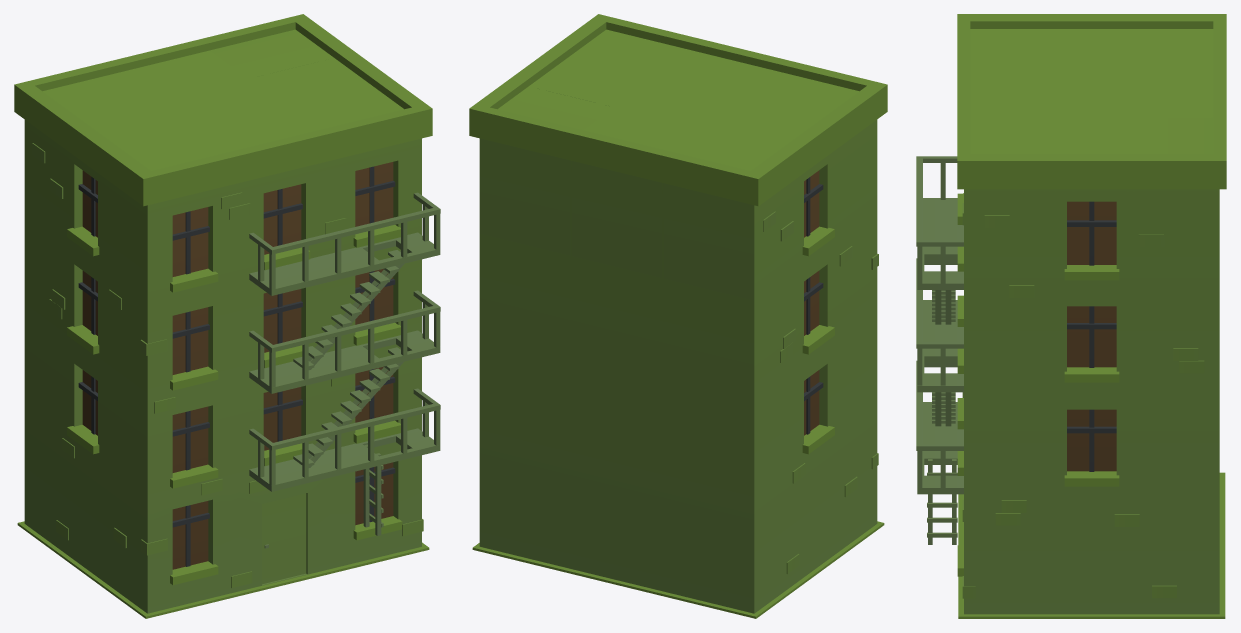
Rendered from House_08.fbx.
3 views of the same model, side by side, from view 1: azimuth 30°, elevation 25°; view 2: azimuth 150°, elevation 25°; view 3: azimuth 270°, elevation 25° (orthographic). The views are drawn at different scales.
Visible parts, largest first — view 1: House_08; view 2: House_08; view 3: House_08.
Part boxes in pixels (bbox=[...]): House_08: bbox=[14, 14, 440, 618]; House_08: bbox=[469, 14, 887, 618]; House_08: bbox=[916, 14, 1226, 618].
Bounding box in the file's own units: 7.14 × 10.41 × 6.37.
